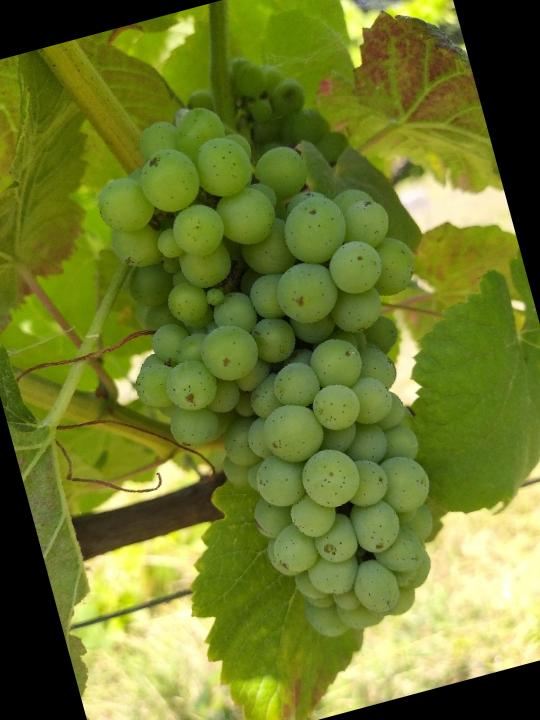grape: (66, 58, 506, 674)
